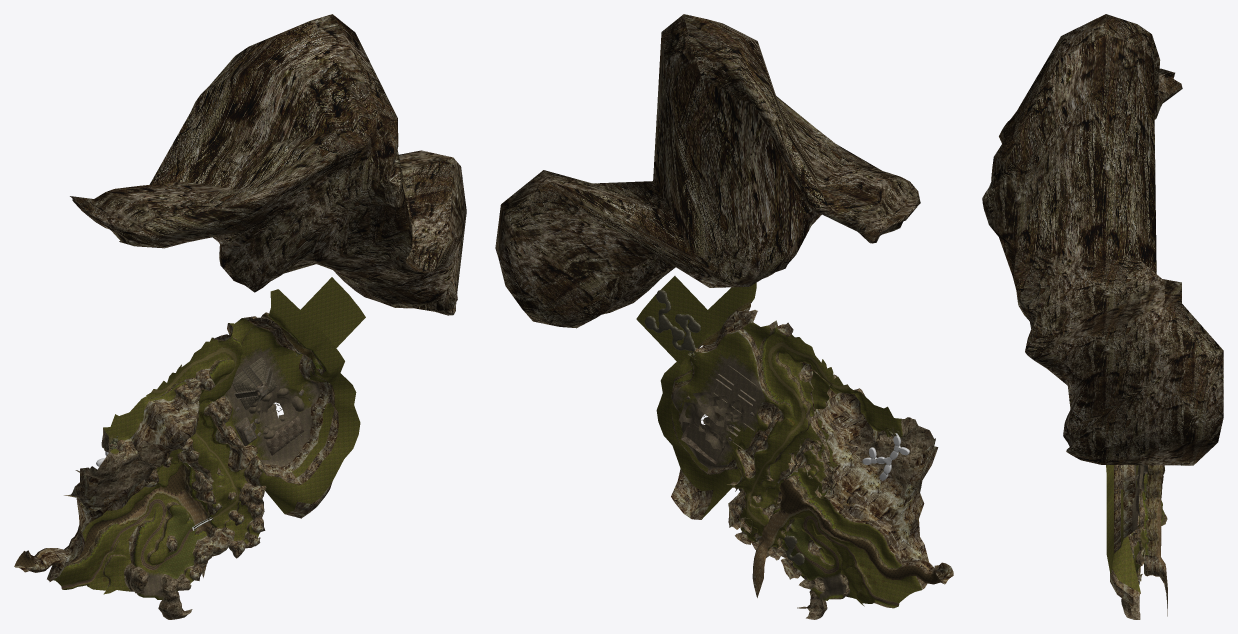
3 views of the same model, side by side, from view 1: azimuth 30°, elevation 25°; view 2: azimuth 150°, elevation 25°; view 3: azimuth 270°, elevation 25° (orthographic). The views are drawn at different scales.
Parts seen in each view (by area): view 1: 3DSMesh_10, 3DSMesh_2, 3DSMesh_1, 3DSMesh_15, 3DSMesh_26, 3DSMesh_0, 3DSMesh_27, 3DSMesh_35, 3DSMesh_19, 3DSMesh_28, 3DSMesh_20, 3DSMesh_14 (+1 smaller); view 2: 3DSMesh_10, 3DSMesh_2, 3DSMesh_1, 3DSMesh_26, 3DSMesh_15, 3DSMesh_0, 3DSMesh_27, 3DSMesh_20, 3DSMesh_8, 3DSMesh_14, 3DSMesh_16, 3DSMesh_19 (+1 smaller); view 3: 3DSMesh_10, 3DSMesh_1, 3DSMesh_2, 3DSMesh_0, 3DSMesh_26.
Boxes of the visible parts, left/top/right/bottom form: 3DSMesh_10: left=70, top=14, right=466, bottom=315; 3DSMesh_2: left=53, top=277, right=365, bottom=594; 3DSMesh_1: left=14, top=312, right=338, bottom=581; 3DSMesh_15: left=85, top=428, right=192, bottom=619; 3DSMesh_26: left=141, top=352, right=320, bottom=596; 3DSMesh_0: left=63, top=314, right=329, bottom=599; 3DSMesh_27: left=140, top=346, right=316, bottom=599; 3DSMesh_35: left=157, top=507, right=204, bottom=578; 3DSMesh_19: left=61, top=499, right=192, bottom=589; 3DSMesh_28: left=232, top=357, right=310, bottom=448; 3DSMesh_20: left=14, top=464, right=185, bottom=567; 3DSMesh_14: left=151, top=346, right=246, bottom=518; 3DSMesh_10: left=495, top=14, right=920, bottom=328; 3DSMesh_2: left=636, top=276, right=921, bottom=606; 3DSMesh_1: left=671, top=301, right=953, bottom=597; 3DSMesh_26: left=671, top=359, right=845, bottom=598; 3DSMesh_15: left=797, top=417, right=935, bottom=619; 3DSMesh_0: left=674, top=299, right=907, bottom=608; 3DSMesh_27: left=673, top=352, right=844, bottom=600; 3DSMesh_20: left=780, top=480, right=943, bottom=584; 3DSMesh_8: left=644, top=290, right=803, bottom=565; 3DSMesh_14: left=736, top=341, right=849, bottom=526; 3DSMesh_16: left=753, top=510, right=833, bottom=597; 3DSMesh_19: left=786, top=515, right=899, bottom=606; 3DSMesh_10: left=982, top=14, right=1223, bottom=465; 3DSMesh_1: left=1110, top=465, right=1167, bottom=616; 3DSMesh_2: left=1106, top=465, right=1162, bottom=592; 3DSMesh_0: left=1114, top=465, right=1167, bottom=574; 3DSMesh_26: left=1132, top=465, right=1147, bottom=532.
Size of the model in its own units: 49611 by 59873 by 19752.
